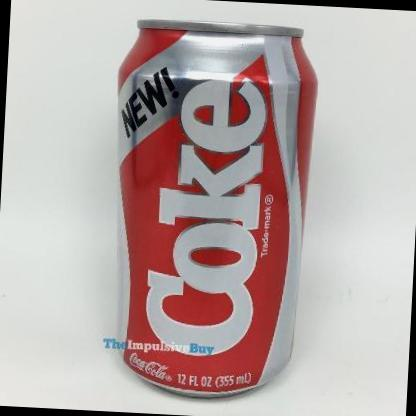alumunium_can: (101, 12, 322, 410)
